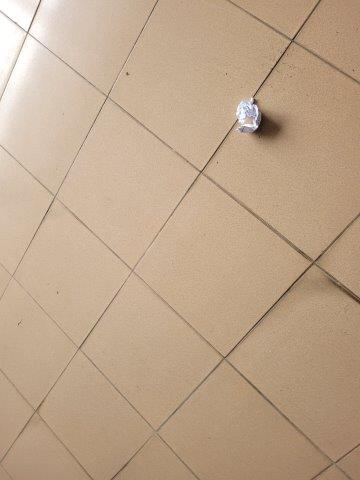kertas: (236, 101, 261, 137)
